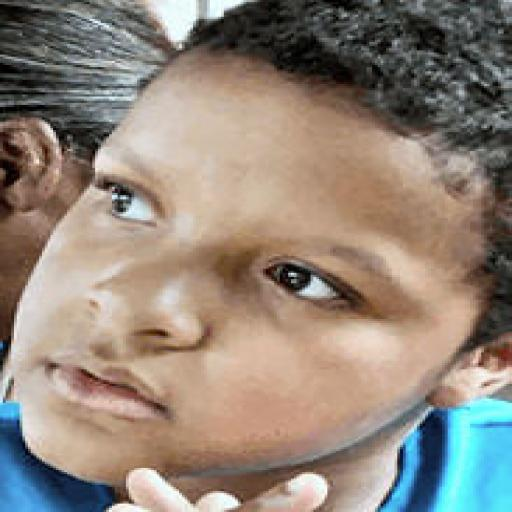Autism: (7, 6, 512, 473)
